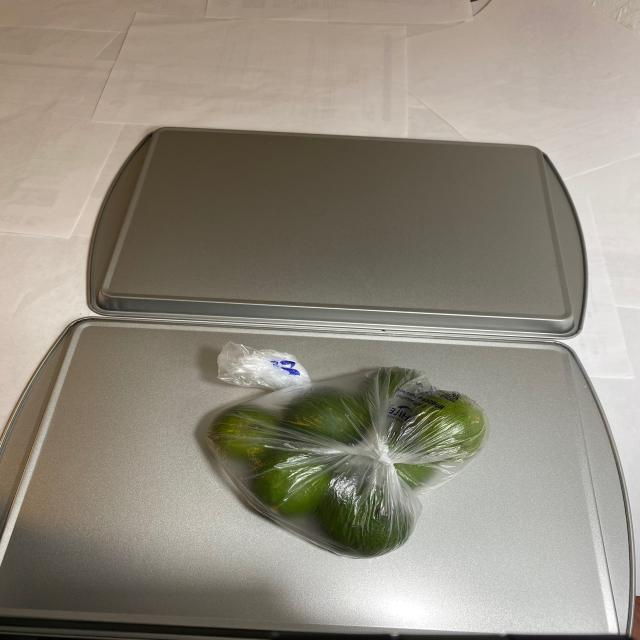lemon: (192, 355, 489, 561)
